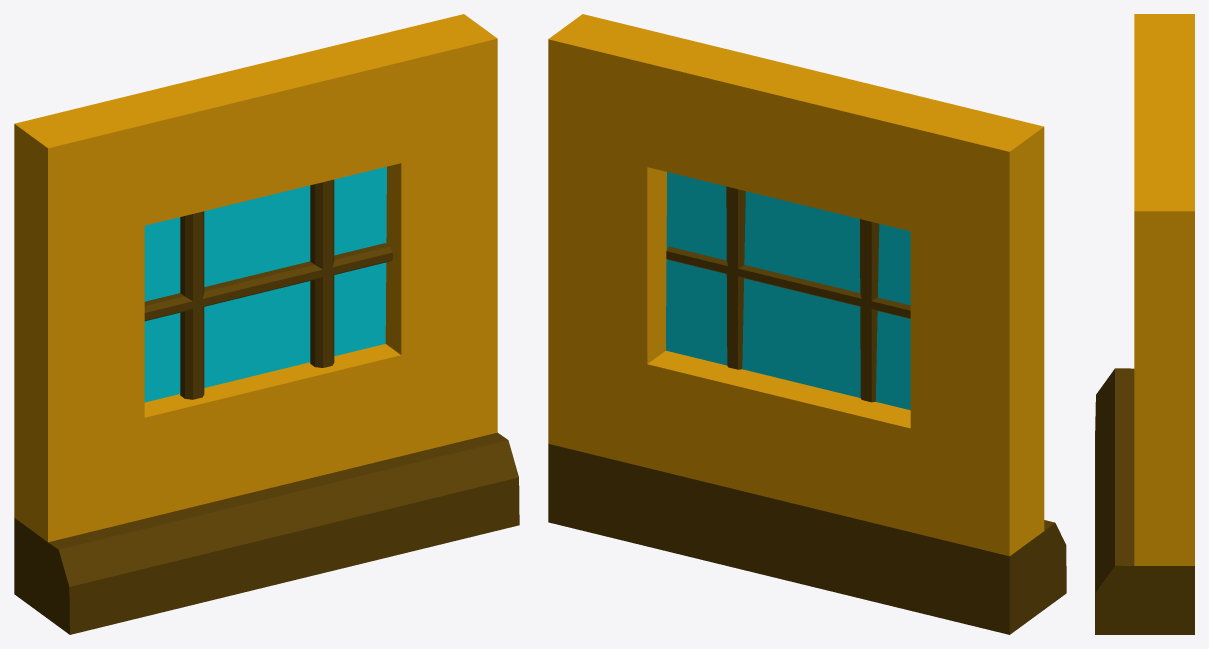
File: Wall Big Window Ground.fbx
3 renders of one model, left to right at view 1: azimuth 30°, elevation 25°; view 2: azimuth 150°, elevation 25°; view 3: azimuth 270°, elevation 25°, orthographic. The views are drawn at different scales.
Parts seen in each view (by area): view 1: Cube.005, Plane.003, Cube.002; view 2: Cube.005, Plane.003, Cube.002; view 3: Cube.005.
Part boxes in pixels (box(x1,y1,x2,y2)): Cube.005: box(14, 14, 519, 634); Plane.003: box(144, 166, 386, 402); Cube.002: box(144, 179, 392, 399); Cube.005: box(548, 14, 1066, 634); Plane.003: box(665, 172, 910, 410); Cube.002: box(666, 186, 910, 402); Cube.005: box(1095, 14, 1194, 634).
Size of the model in its own units: 200 by 200 by 42.8.
